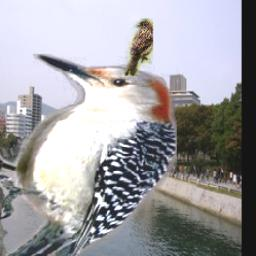Sparrow: (124, 18, 153, 76)
Woodpecker: (0, 54, 177, 256)
